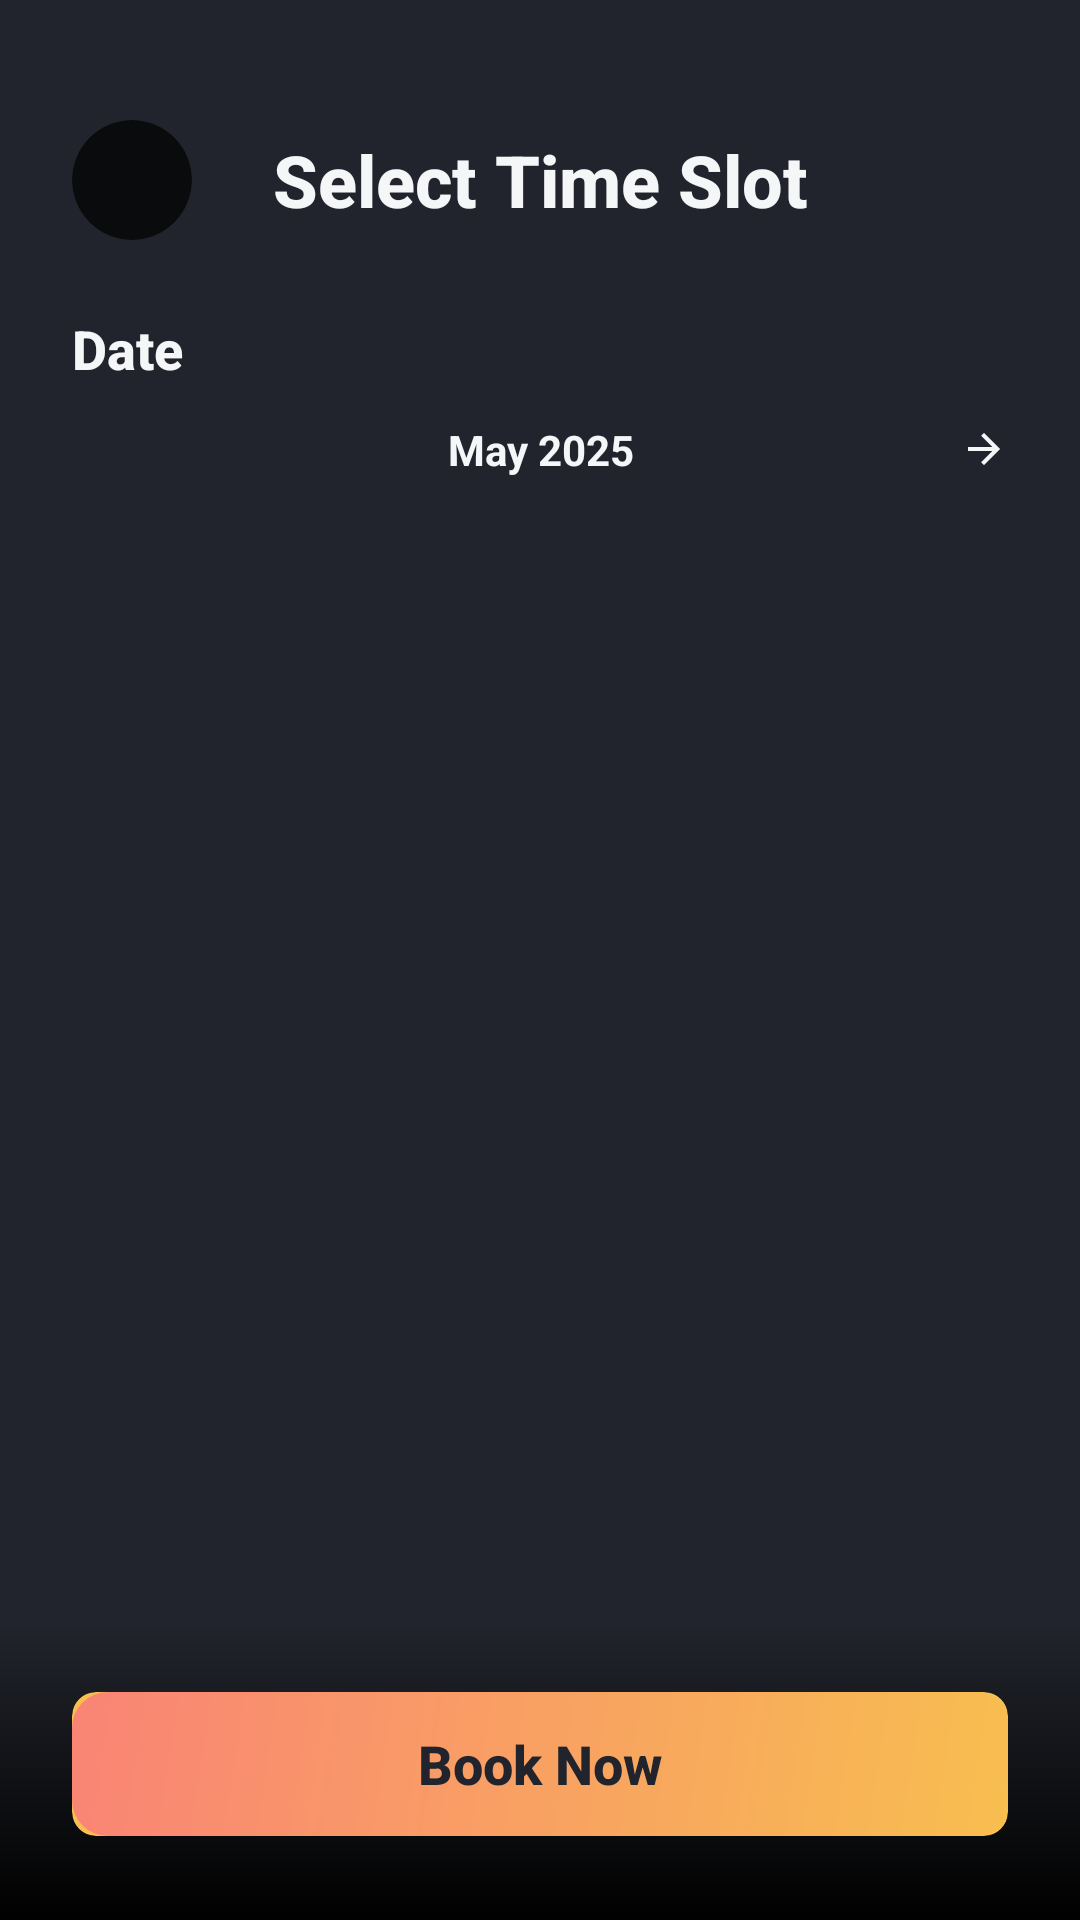

Named icons in this screenshot (1080*1920) and their centers, (x,y):
arrow forward: (984,449)
